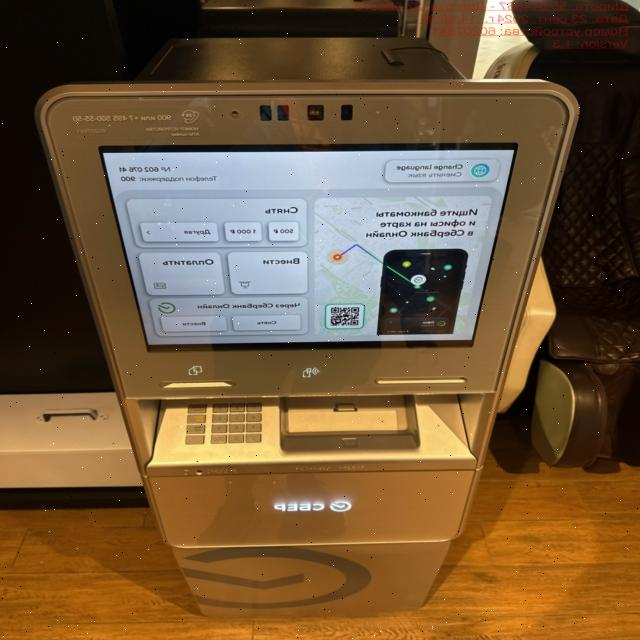bank: (40, 34, 582, 616)
